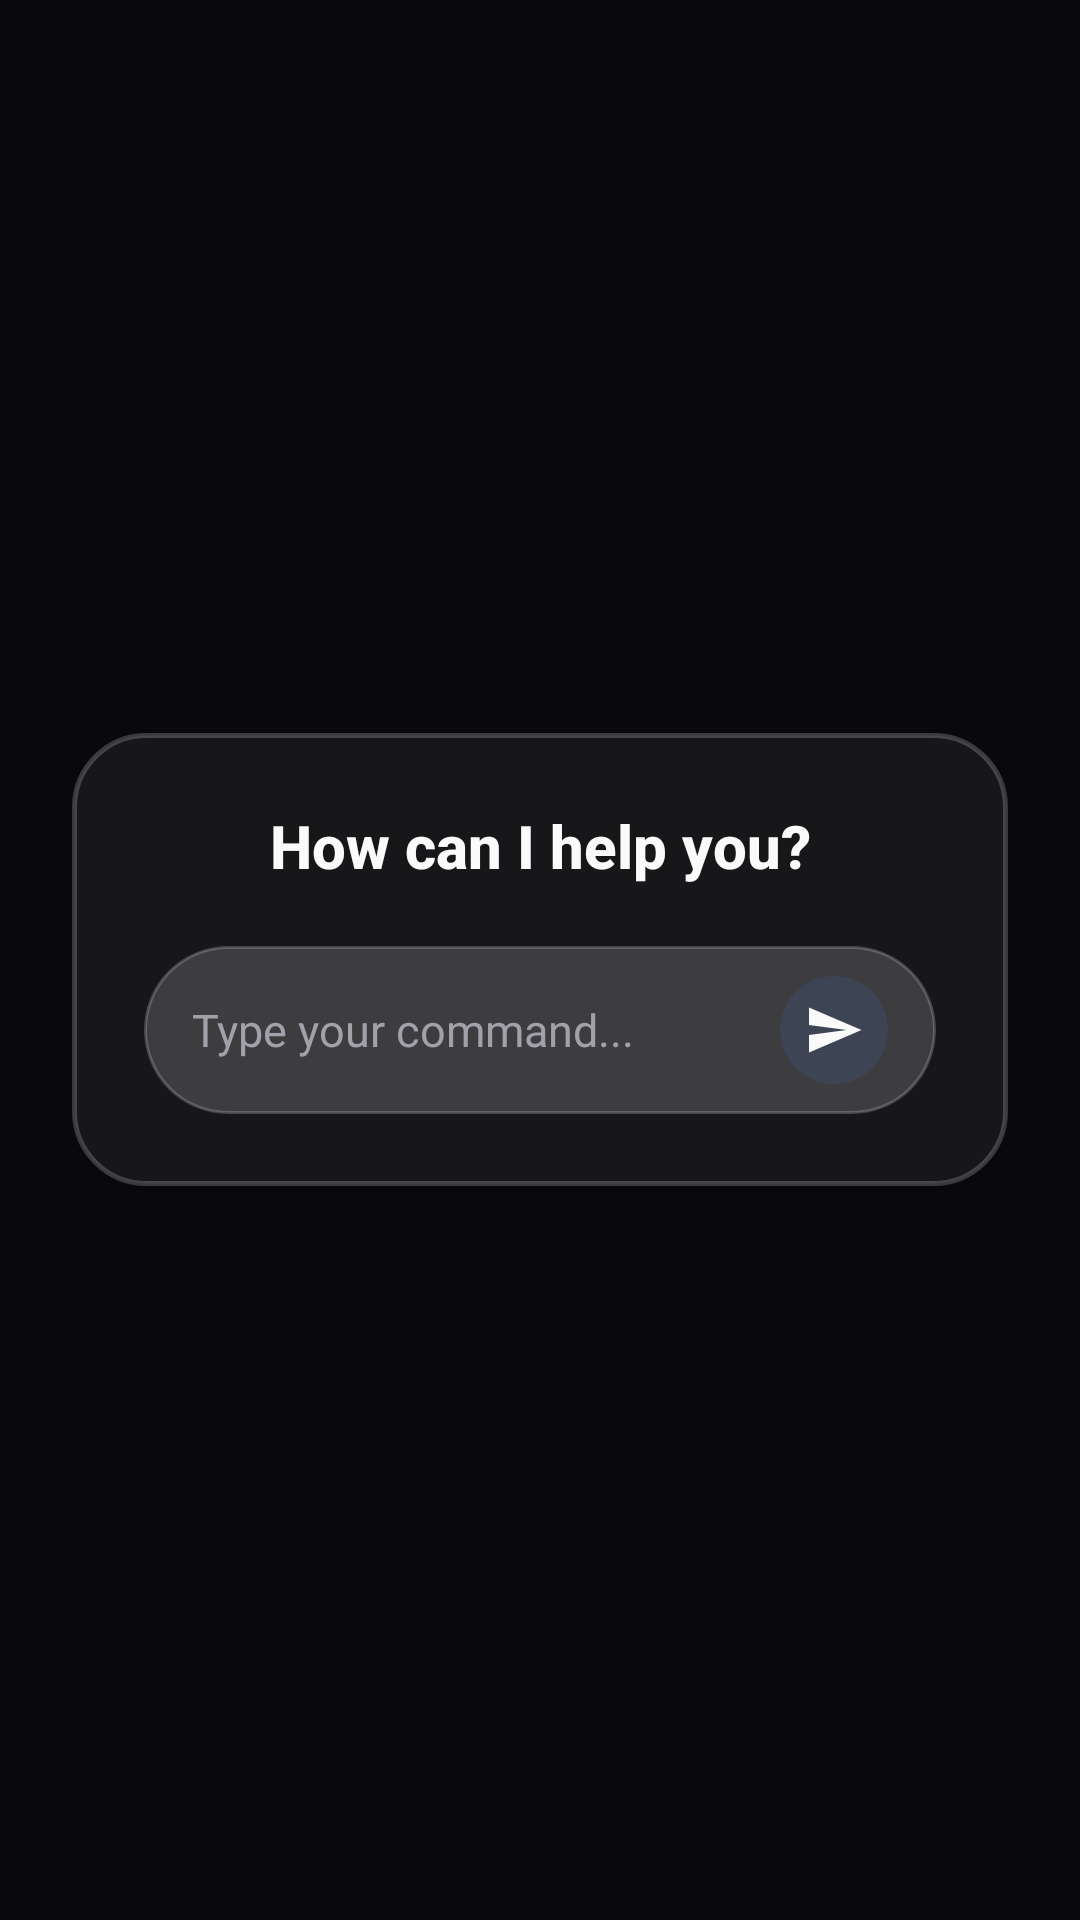

Icon click points for this 1080 × 1920 phone screenshot, format [x,y]:
send: [834,1030]
